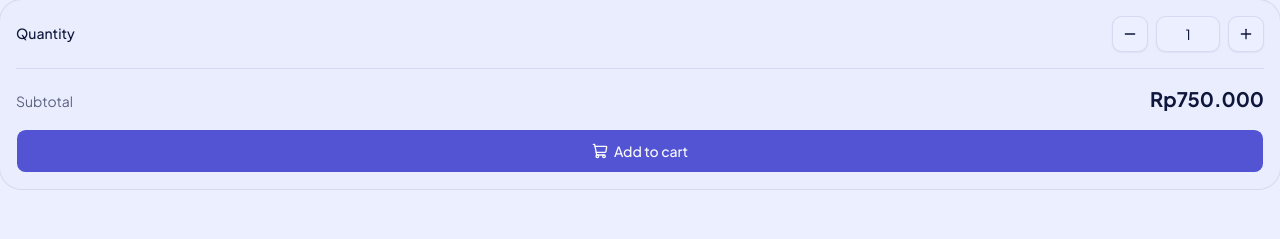
Test: PurchasePanel - validasi stok › menampilkan error stok jika cart masih kosong
Click the button named "Increase quantity": (1246, 34) [1228,16,1264,52]
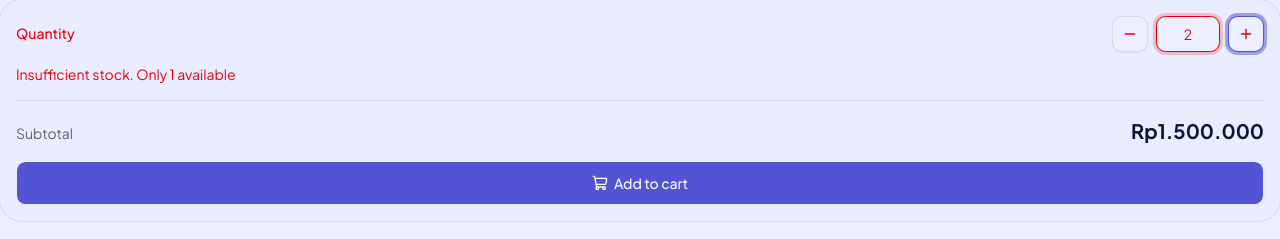
Check: the text "Insufficient stock. Only 1 available" is shown, box [16,65,236,83]
